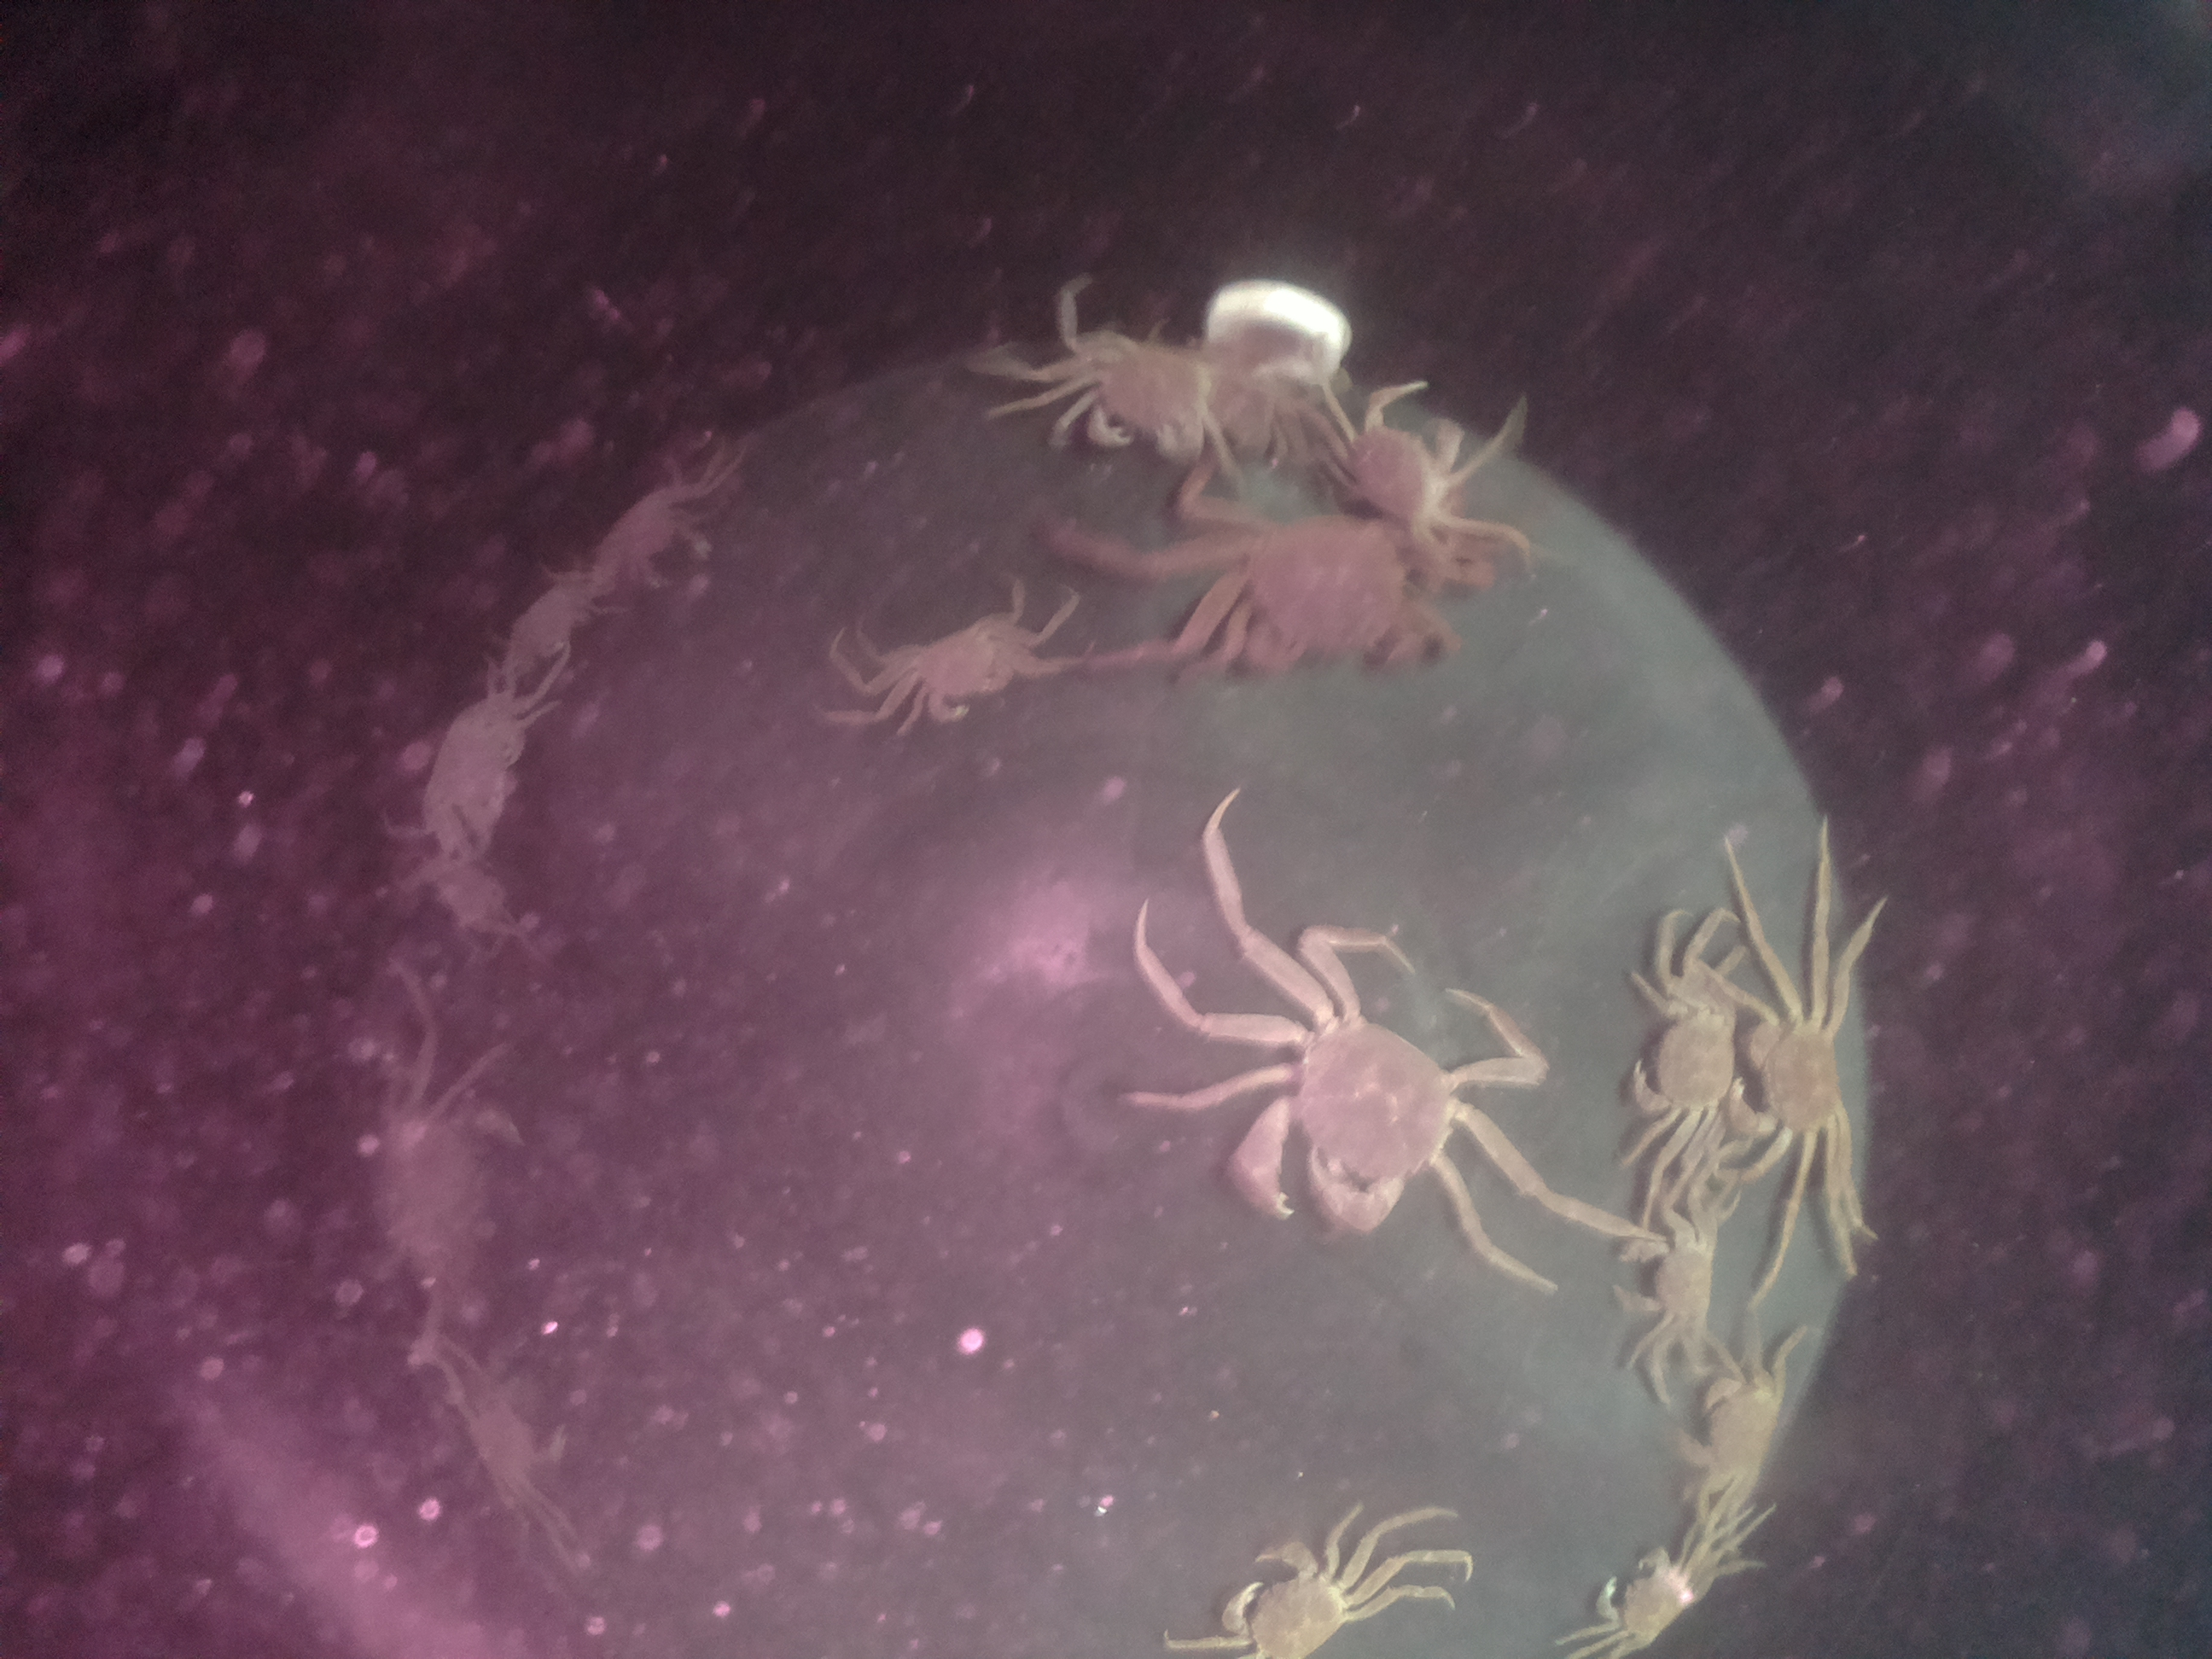Crab: (1205, 988, 1491, 1260), (1622, 946, 1759, 1175), (1730, 978, 1888, 1157), (1061, 301, 1226, 464), (1200, 1528, 1372, 1659), (902, 598, 1035, 746), (1594, 1218, 1738, 1349), (1581, 1540, 1716, 1659)
